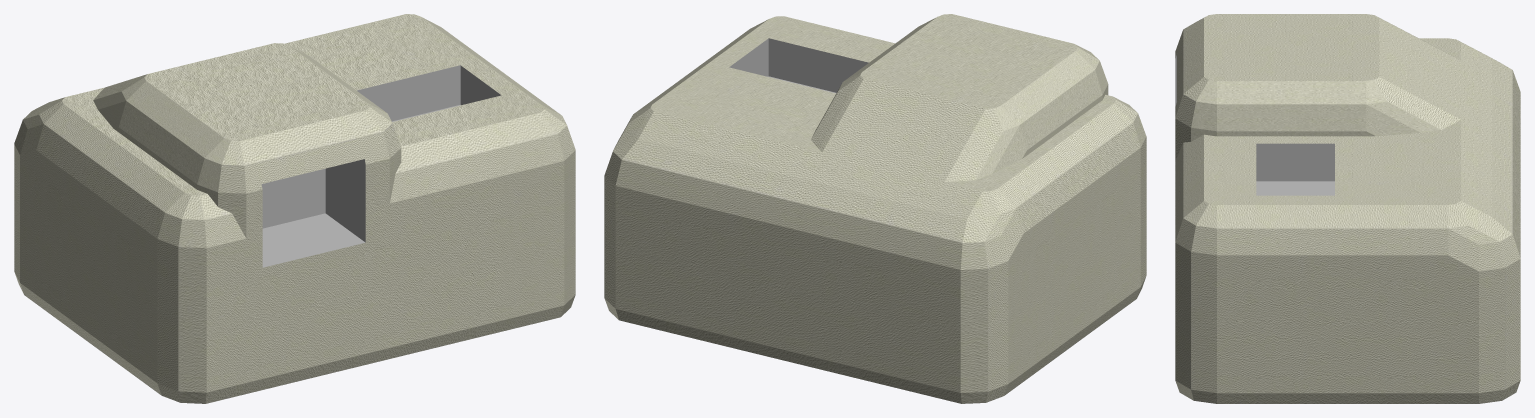
The model's file is handdryer-body.gltf.
3 renders of one model, left to right at view 1: azimuth 30°, elevation 25°; view 2: azimuth 150°, elevation 25°; view 3: azimuth 270°, elevation 25°, orthographic. The views are drawn at different scales.
Size of the model in its own units: 0.26 by 0.1458 by 0.1976.
2 materials, 1 textured.
